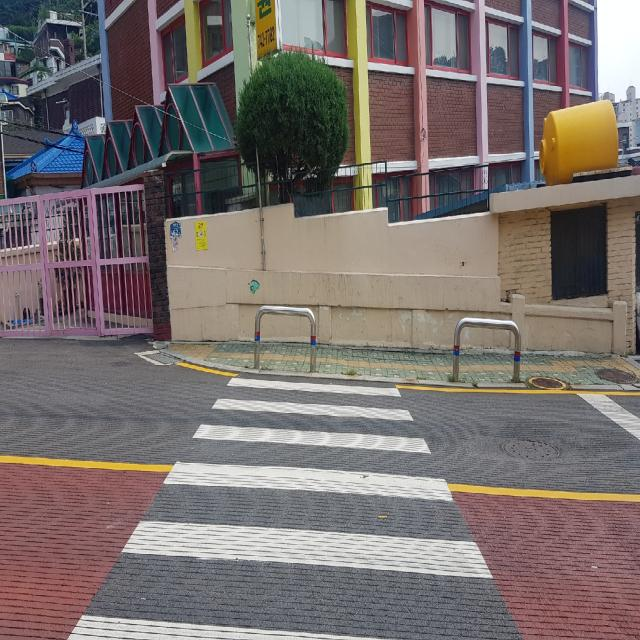횡단보도: (62, 370, 497, 640)
